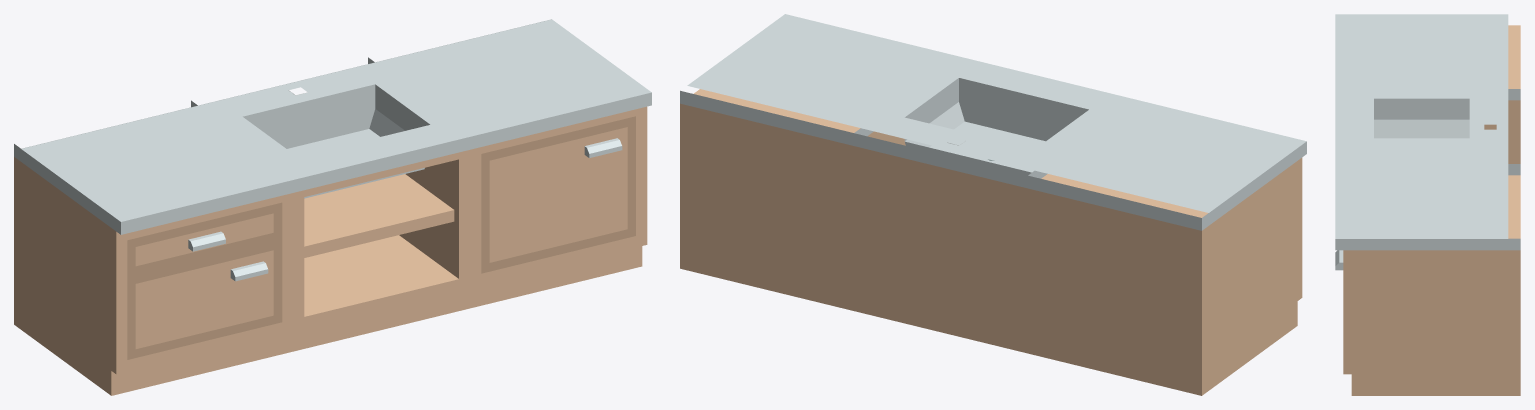
File: Kitchen_SinkCounter.glb
The picture shows the model from 3 angles, left to right: view 1: azimuth 30°, elevation 25°; view 2: azimuth 150°, elevation 25°; view 3: azimuth 270°, elevation 25°; orthographic projection. The views are drawn at different scales.
Visible parts, largest first — view 1: Kitchen_SinkCounter; view 2: Kitchen_SinkCounter; view 3: Kitchen_SinkCounter.
Boxes of the visible parts, x1,y1,x2,y2 form: Kitchen_SinkCounter: [14, 19, 651, 395]; Kitchen_SinkCounter: [680, 14, 1306, 395]; Kitchen_SinkCounter: [1335, 14, 1520, 395].
Bounding box in the file's own units: 1.29 × 0.4205 × 0.45.
